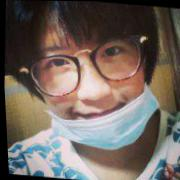WRONG: (29, 12, 153, 152)
